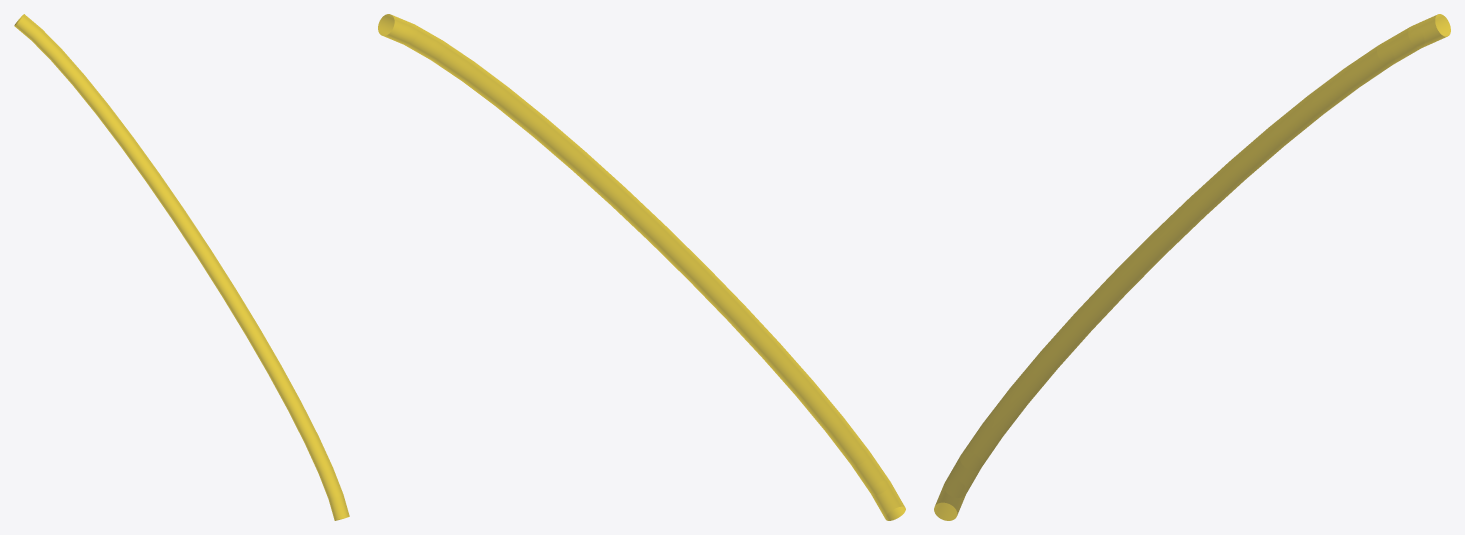
File: Event_84804159_track_29.fbx
3 views of the same model, side by side, from view 1: azimuth 90°, elevation 25°; view 2: azimuth 150°, elevation 25°; view 3: azimuth 270°, elevation 25° (orthographic). The views are drawn at different scales.
Visible parts, largest first — view 1: Model; view 2: Model; view 3: Model.
Boxes of the visible parts, x1,y1,x2,y2 form: Model: (14,14,349,520); Model: (378,14,905,520); Model: (934,14,1450,520).
Bounding box in the file's own units: 0.5842 × 1.16 × 0.8486.
